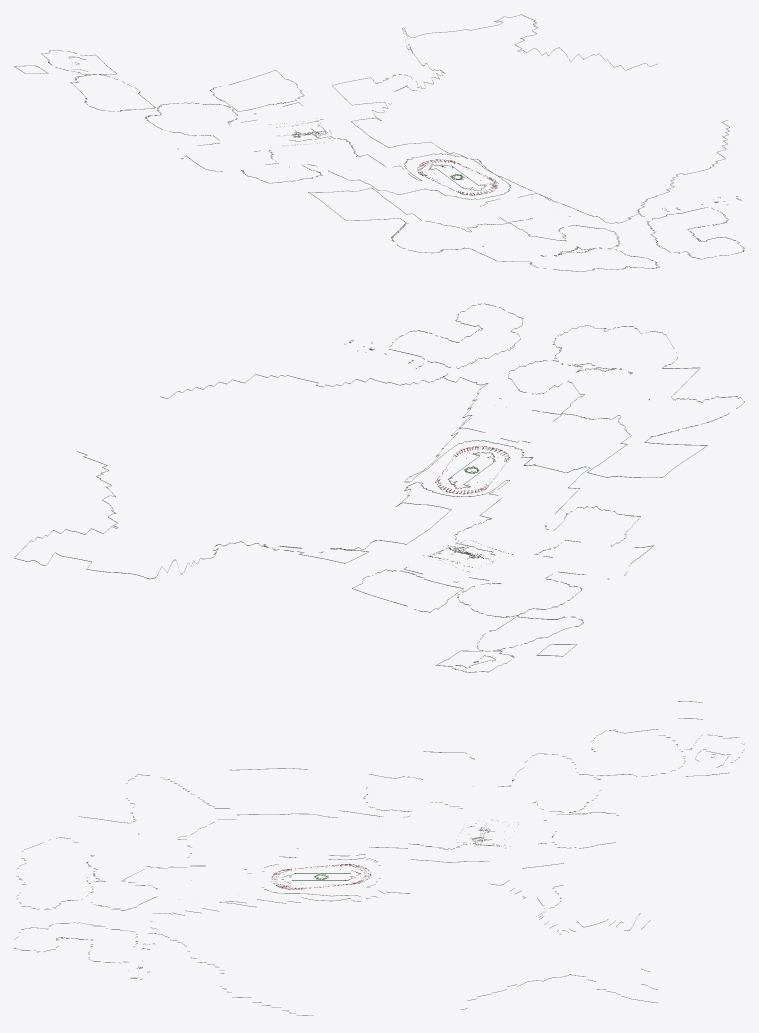
3 renders of one model, top to bottom at view 1: azimuth 30°, elevation 25°; view 2: azimuth 150°, elevation 25°; view 3: azimuth 270°, elevation 25°, orthographic. The views are drawn at different scales.
Visible parts, largest first — view 1: skirt-ground-draft, skirt-astra10-asphalt; view 2: skirt-ground-draft, skirt-astra10-asphalt; view 3: skirt-ground-draft.
Part boxes in pixels (x1,y1,x2,y2): skirt-ground-draft: [14, 14, 744, 271]; skirt-astra10-asphalt: [73, 56, 738, 267]; skirt-ground-draft: [14, 303, 744, 672]; skirt-astra10-asphalt: [349, 304, 702, 666]; skirt-ground-draft: [14, 701, 744, 1015].
Bounding box in the file's own units: 1025 × 98.54 × 1180.
